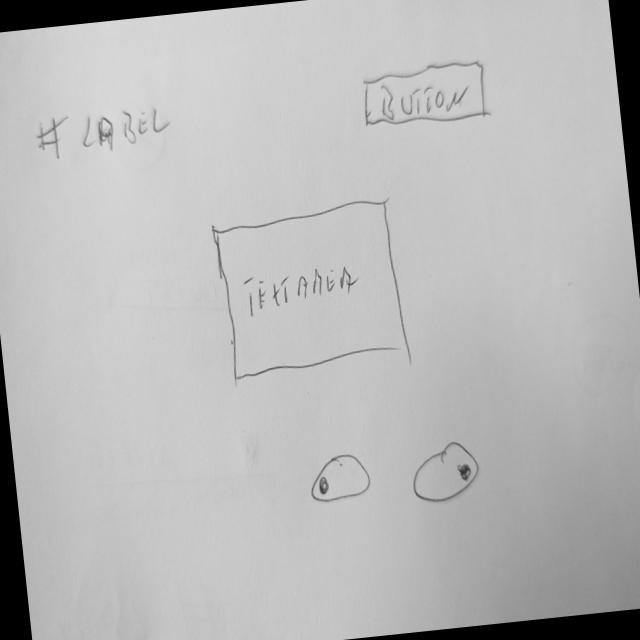button: (357, 59, 492, 134)
label: (33, 98, 177, 163)
toggle: (406, 437, 485, 510), (305, 450, 376, 507)
